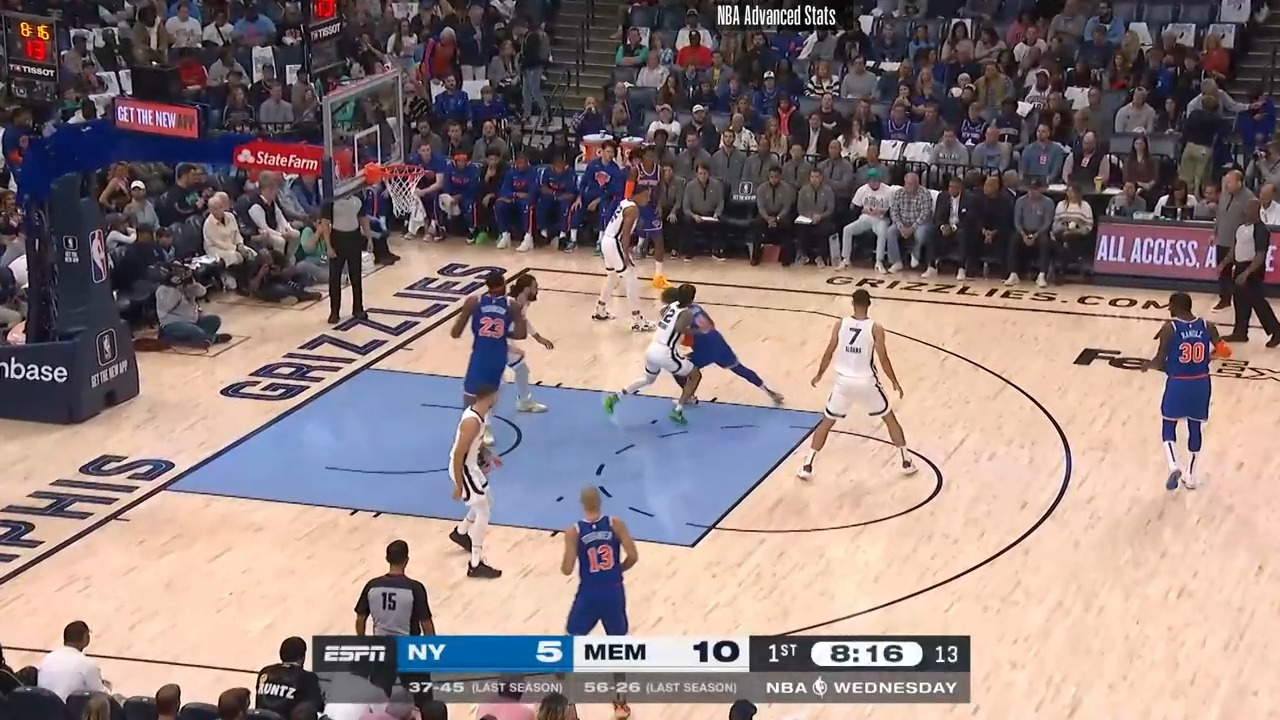net: (364, 157, 431, 215)
player: (799, 287, 917, 484), (1138, 291, 1219, 494), (668, 282, 785, 413), (554, 482, 644, 639), (610, 286, 708, 428), (449, 267, 530, 426), (444, 382, 507, 579), (590, 184, 651, 331), (500, 270, 559, 421), (623, 148, 676, 273)
referee: (349, 537, 439, 716), (1225, 176, 1280, 350), (326, 179, 383, 333)
